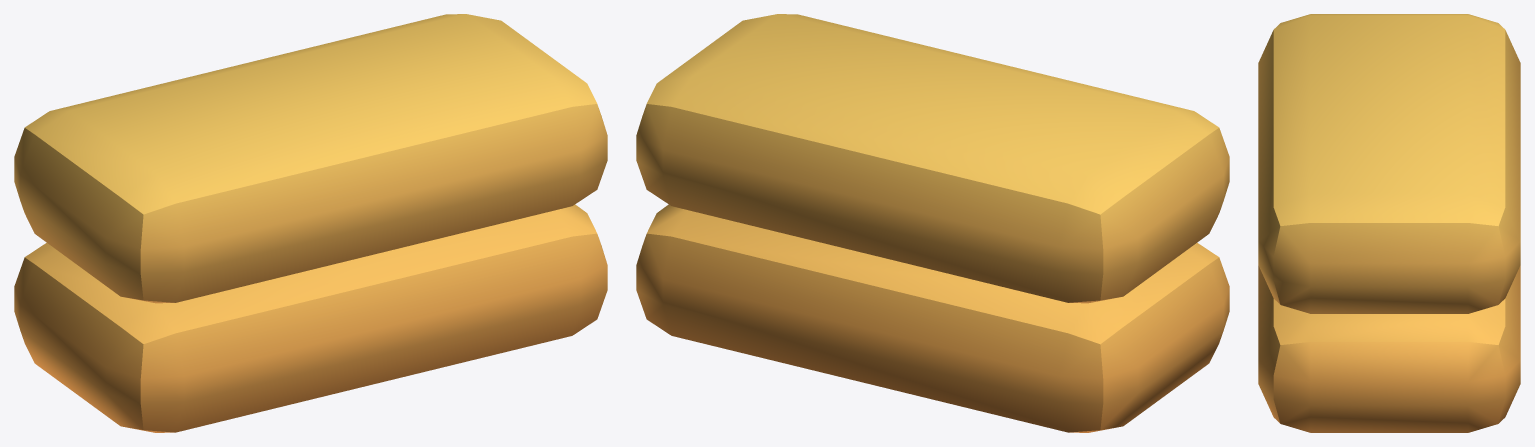
Rendered from barrier_2x1x1_yellow.glb.
3 views of the same model, side by side, from view 1: azimuth 30°, elevation 25°; view 2: azimuth 150°, elevation 25°; view 3: azimuth 270°, elevation 25° (orthographic). The views are drawn at different scales.
Visible parts, largest first — view 1: barrier_2x1x1_yellow; view 2: barrier_2x1x1_yellow; view 3: barrier_2x1x1_yellow.
Part boxes in pixels (bbox=[...]): barrier_2x1x1_yellow: bbox=[14, 14, 607, 432]; barrier_2x1x1_yellow: bbox=[636, 14, 1229, 432]; barrier_2x1x1_yellow: bbox=[1258, 14, 1520, 432].
Bounding box in the file's own units: 2 × 1 × 1.
Materials: 1 (1 with a texture image).
